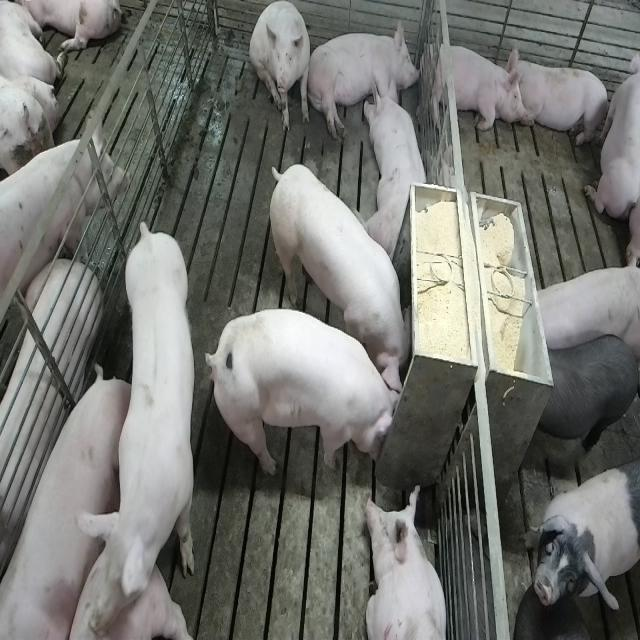Feeding: (205, 306, 403, 479), (263, 162, 412, 388)
Lateral_lying: (0, 262, 100, 598), (307, 16, 422, 142)
Sitting: (250, 1, 312, 134)
Standing: (103, 223, 199, 633), (0, 135, 129, 352), (525, 459, 637, 615), (532, 332, 638, 468), (527, 263, 637, 356)
Sternal_lying: (363, 484, 448, 640), (366, 73, 432, 260), (510, 51, 612, 150), (585, 36, 637, 230), (424, 36, 524, 135)
